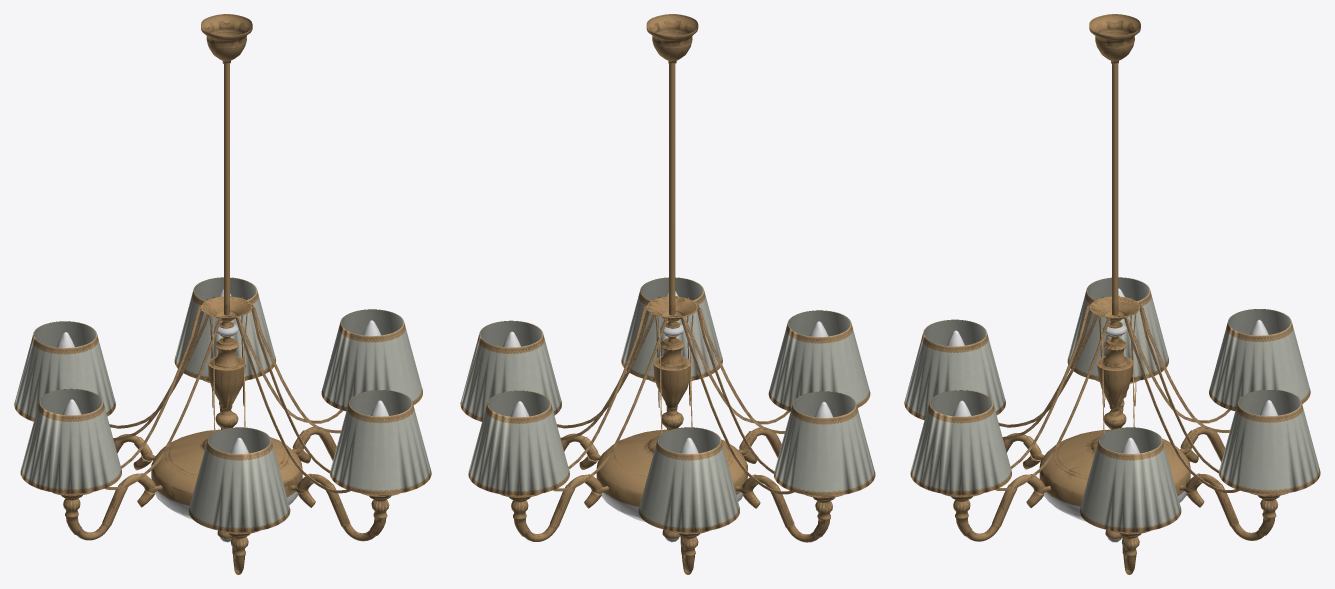
Rendered from chandelier_02.glb.
3 views of the same model, side by side, from view 1: azimuth 30°, elevation 25°; view 2: azimuth 150°, elevation 25°; view 3: azimuth 270°, elevation 25° (orthographic).
Visible parts, largest first — view 1: Chandelier_02; view 2: Chandelier_02; view 3: Chandelier_02.
Part boxes in pixels (box(x1,y1,x2,y2)): Chandelier_02: box(14, 14, 431, 574); Chandelier_02: box(460, 14, 875, 574); Chandelier_02: box(904, 14, 1320, 574).
Bounding box in the file's own units: 0.679 × 0.8481 × 0.619.
2 materials, 1 textured.
